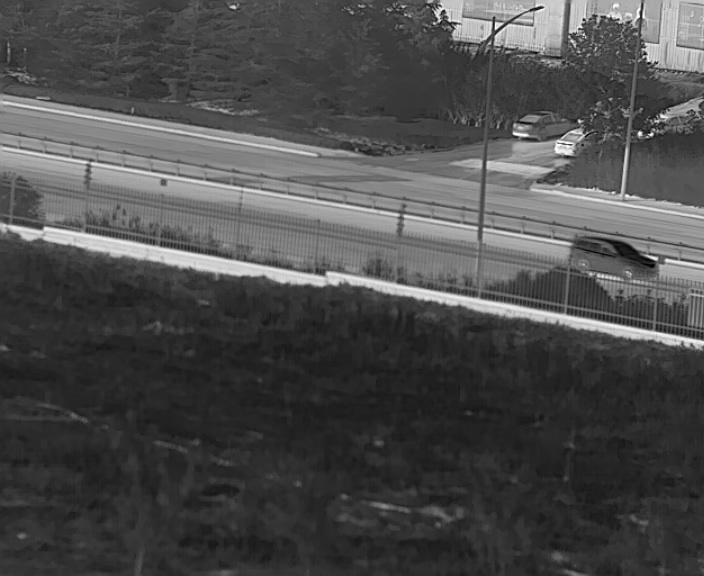vehicle: (565, 235, 659, 281), (512, 110, 562, 142), (552, 126, 591, 154)
